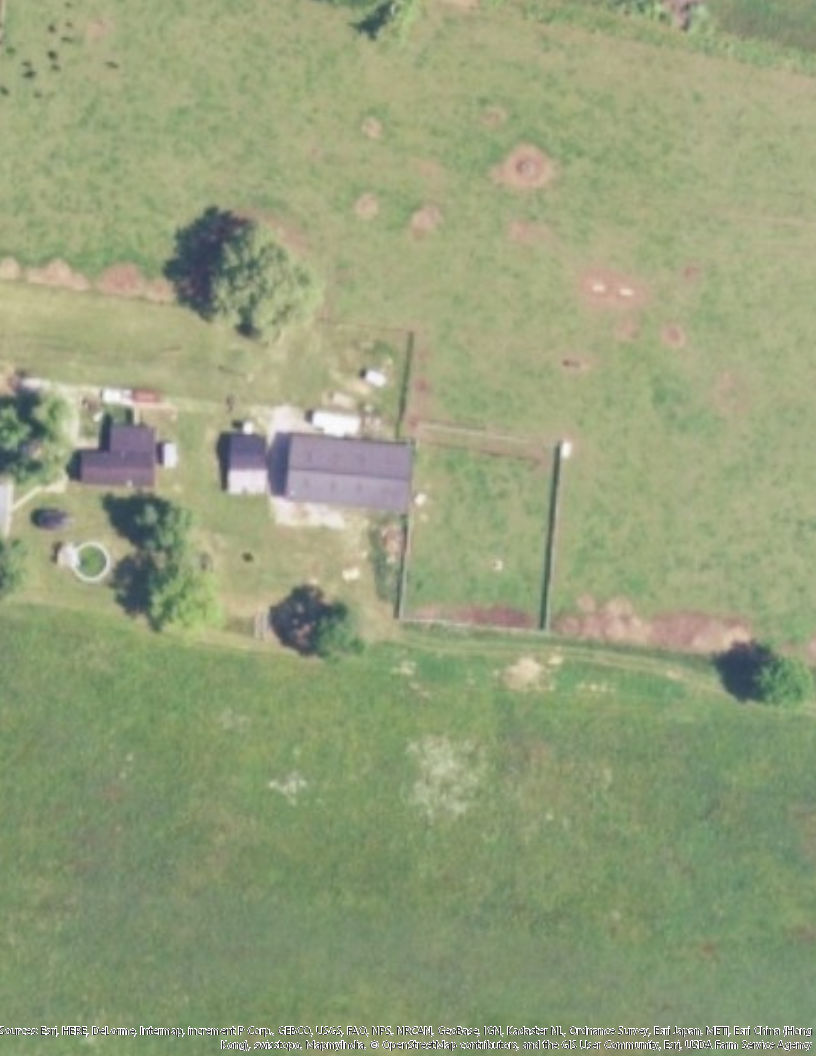cafo: (273, 423, 434, 524)
